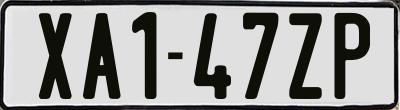1: (132, 10, 162, 100)
4: (192, 12, 230, 102)
7: (241, 12, 282, 102)
A: (83, 10, 125, 97)
P: (332, 10, 370, 97)
X: (39, 10, 73, 96)
Z: (289, 10, 328, 99)
